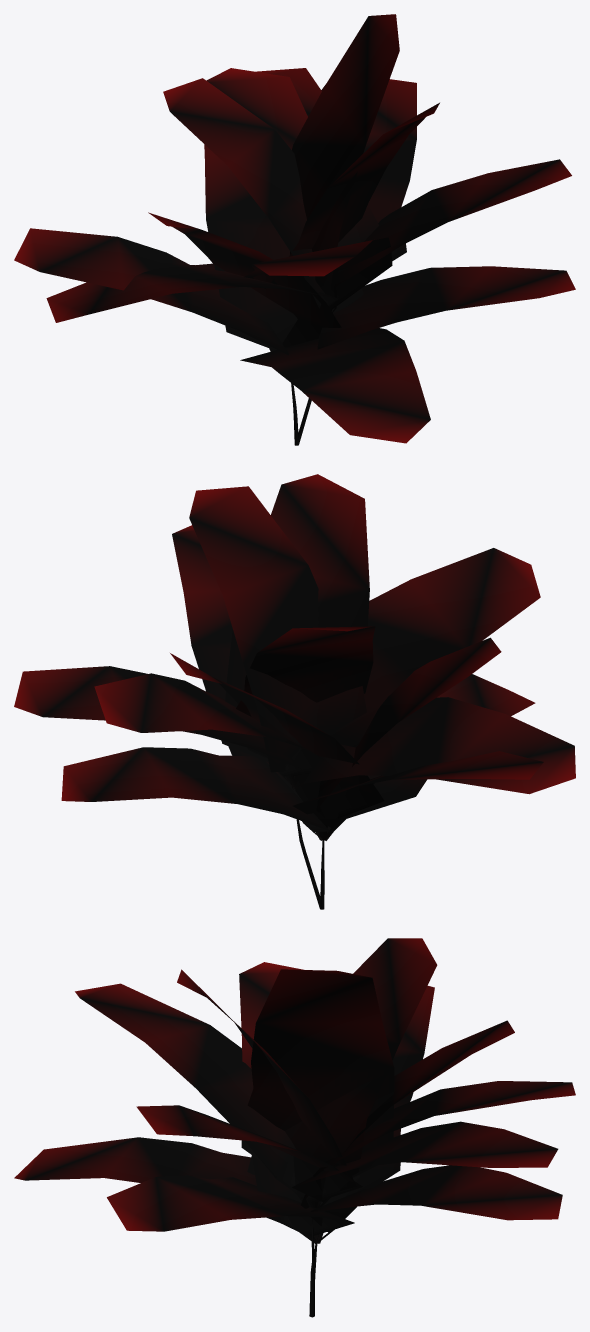
Rendered from Bush01E.fbx.
3 views of the same model, one above another, from view 1: azimuth 30°, elevation 25°; view 2: azimuth 150°, elevation 25°; view 3: azimuth 270°, elevation 25° (orthographic).
Visible parts, largest first — view 1: Bush01E; view 2: Bush01E; view 3: Bush01E.
Boxes of the visible parts, x1=… form: Bush01E: x1=14, y1=14, x2=575, y2=445; Bush01E: x1=14, y1=474, x2=575, y2=909; Bush01E: x1=14, y1=938, x2=575, y2=1317.
Size of the model in its own units: 2.34 by 1.94 by 2.47.
